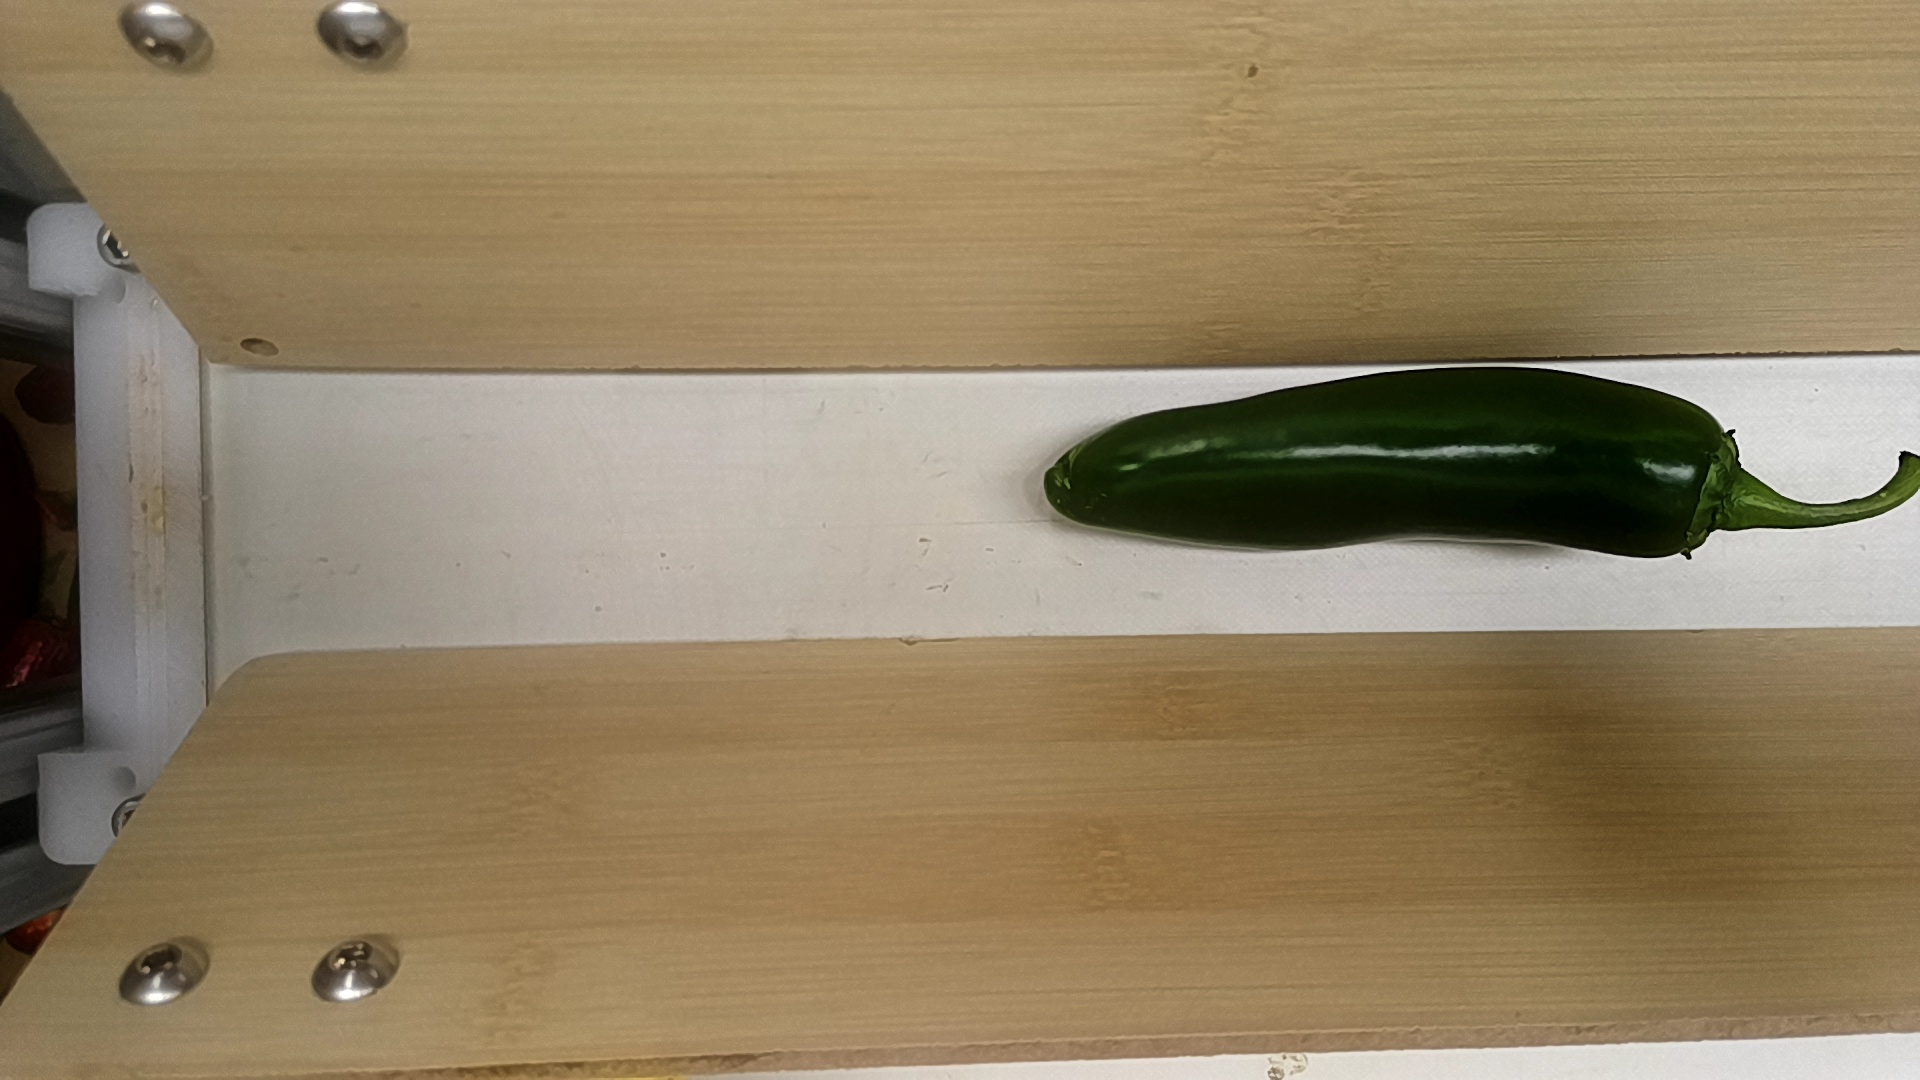Cut Point: (1662, 397, 1751, 568)
